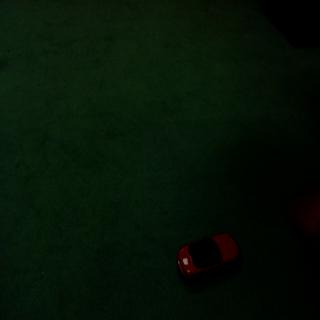car: (174, 223, 245, 288)
